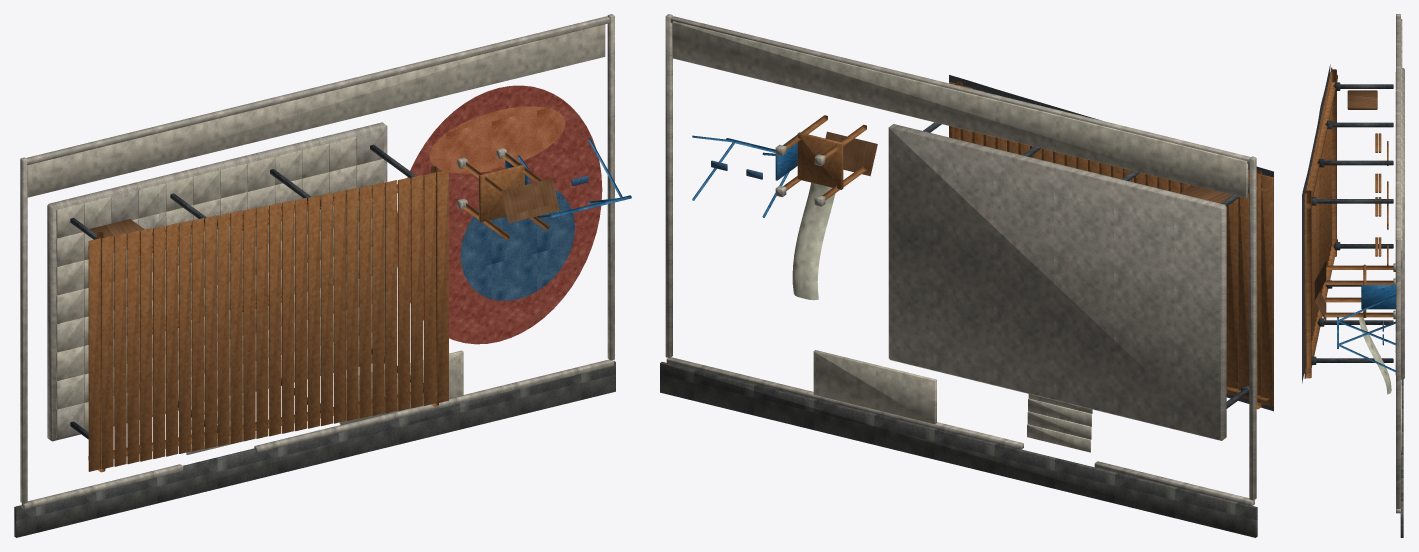
File: HIL10_hlod.glb
3 views of the same model, side by side, from view 1: azimuth 30°, elevation 25°; view 2: azimuth 150°, elevation 25°; view 3: azimuth 270°, elevation 25° (orthographic). The views are drawn at different scales.
Parts seen in each view (by area): view 1: ExposedCeiling__timber, PavingTiles__paving, Walkway__paving, AsphaltThreshold__asphalt, RubberPlaySurface__rubber_red, PeripheralCurbs__concrete, RubberInsetBlue__rubber_blue, RubberInsetOrange__rubber_orange, Foundation__concrete, PavingTiles__concrete, TowerRoof__dark_wood, TowerDeck__timber (+3 smaller); view 2: Foundation__concrete, Walkway__paving, AsphaltThreshold__asphalt, PeripheralCurbs__concrete, ExposedCeiling__timber, SlideCurvedChannel__slide, AccessibleRamp__paving, TowerDeck__timber, CorrugatedSheet__roof, TowerRoof__dark_wood, TowerPosts__timber, TimberPerimeter__timber; view 3: ExposedCeiling__timber, TimberPerimeter__timber, PeripheralCurbs__concrete, Columns__metal, TowerPosts__timber, Foundation__concrete, CorrugatedSheet__roof, ClimbingPanel__blue_paint, BenchTimber__timber, SwingsStructure__blue_paint, NoticeFrame__dark_wood, Walkway__paving (+5 smaller).
Part boxes in pixels (bbox=[...]): ExposedCeiling__timber: bbox=[88, 170, 448, 471]; PavingTiles__paving: bbox=[56, 136, 383, 430]; Walkway__paving: bbox=[27, 24, 605, 425]; AsphaltThreshold__asphalt: bbox=[14, 360, 615, 537]; RubberPlaySurface__rubber_red: bbox=[397, 85, 602, 344]; PeripheralCurbs__concrete: bbox=[20, 14, 614, 509]; RubberInsetBlue__rubber_blue: bbox=[460, 182, 574, 300]; RubberInsetOrange__rubber_orange: bbox=[429, 106, 565, 173]; Foundation__concrete: bbox=[47, 122, 387, 441]; PavingTiles__concrete: bbox=[56, 130, 383, 437]; TowerRoof__dark_wood: bbox=[501, 178, 559, 222]; TowerDeck__timber: bbox=[479, 164, 524, 222]; Foundation__concrete: bbox=[888, 124, 1226, 440]; Walkway__paving: bbox=[672, 21, 1248, 424]; AsphaltThreshold__asphalt: bbox=[660, 362, 1257, 537]; PeripheralCurbs__concrete: bbox=[665, 14, 1256, 505]; ExposedCeiling__timber: bbox=[949, 82, 1273, 406]; SlideCurvedChannel__slide: bbox=[792, 182, 835, 300]; AccessibleRamp__paving: bbox=[1027, 394, 1092, 452]; TowerDeck__timber: bbox=[797, 132, 843, 189]; CorrugatedSheet__roof: bbox=[949, 75, 1273, 411]; TowerRoof__dark_wood: bbox=[825, 131, 877, 176]; TowerPosts__timber: bbox=[783, 115, 866, 200]; TimberPerimeter__timber: bbox=[954, 81, 1269, 409]; ExposedCeiling__timber: bbox=[1304, 67, 1332, 378]; TimberPerimeter__timber: bbox=[1305, 69, 1337, 378]; PeripheralCurbs__concrete: bbox=[1396, 14, 1400, 513]; Columns__metal: bbox=[1316, 84, 1393, 362]; TowerPosts__timber: bbox=[1325, 265, 1393, 317]; Foundation__concrete: bbox=[1401, 68, 1404, 379]; CorrugatedSheet__roof: bbox=[1302, 64, 1330, 383]; ClimbingPanel__blue_paint: bbox=[1361, 285, 1395, 309]; BenchTimber__timber: bbox=[1375, 133, 1388, 265]; SwingsStructure__blue_paint: bbox=[1338, 294, 1395, 372]; NoticeFrame__dark_wood: bbox=[1347, 90, 1377, 109]; Walkway__paving: bbox=[1401, 19, 1402, 452].
Bounding box in the file's own units: 22 × 13.28 × 4.18.
Materials: 12 (12 with a texture image).
